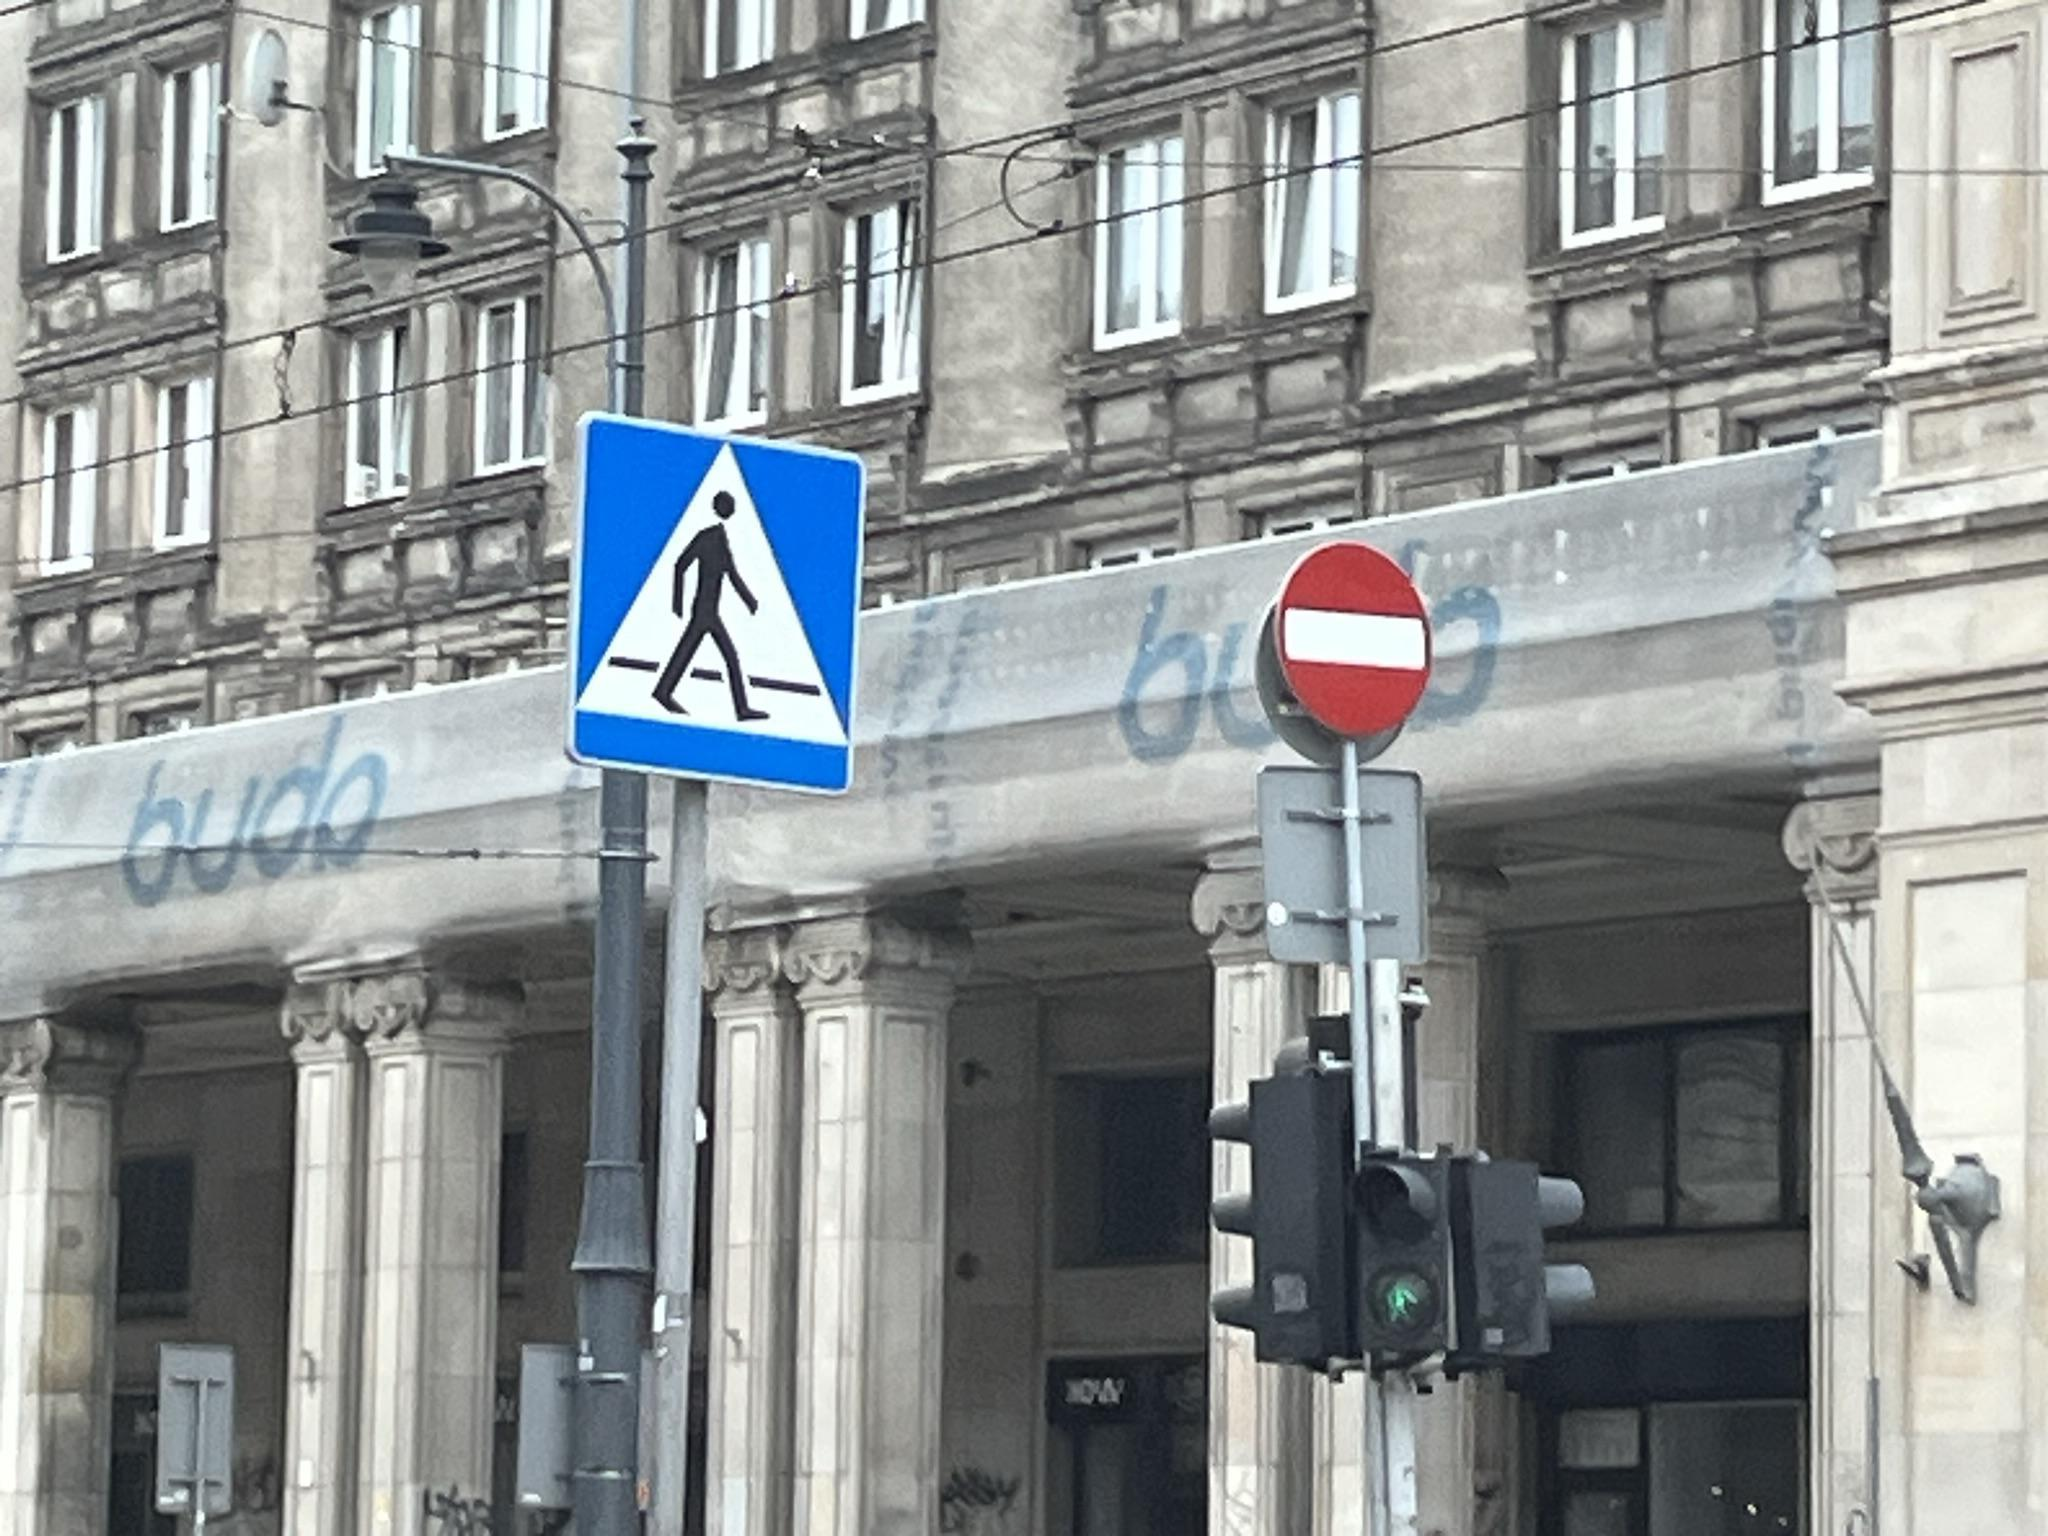information: (563, 410, 868, 800)
prohibitory: (1271, 541, 1432, 741)
